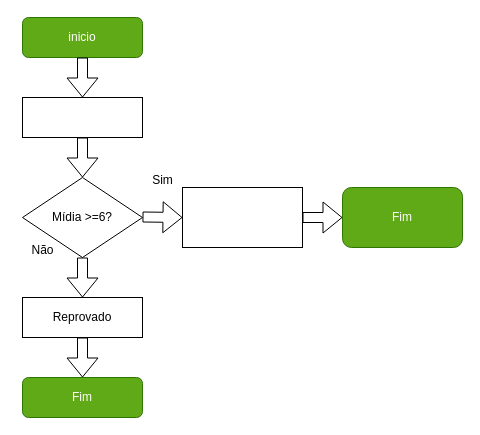
This 480x435 diagram has some shape labels left out. The shapes that lost their labels are listed below. From the top down, each one's box as (x1, y1, x2, y2) in pixels, then its label:
(22, 96, 142, 138): Calcular média de notas da turma
(182, 186, 302, 248): Aprovado
